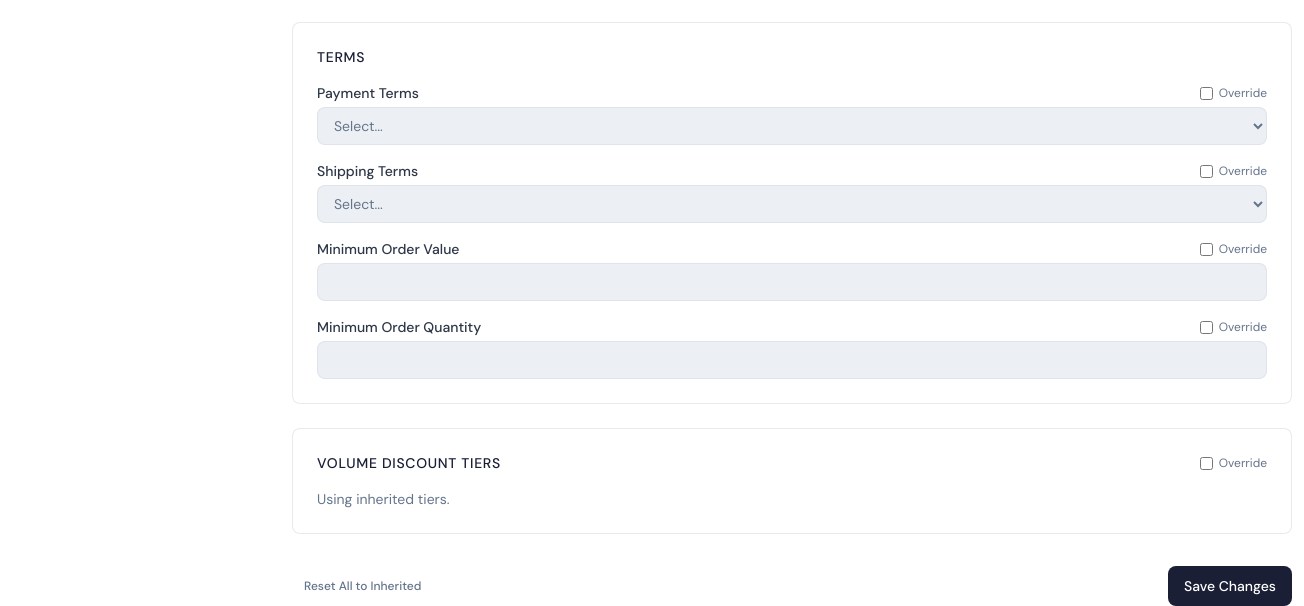
PricingPage — save and reset report the response (SEC-web-account-2-04) › Reset: a 403 shows the error and no "Reset" toast
(page scrolled)
Click the button "Reset All to Inherited". click: click(363, 586)
box: [292, 572, 433, 600]
(page scrolled)
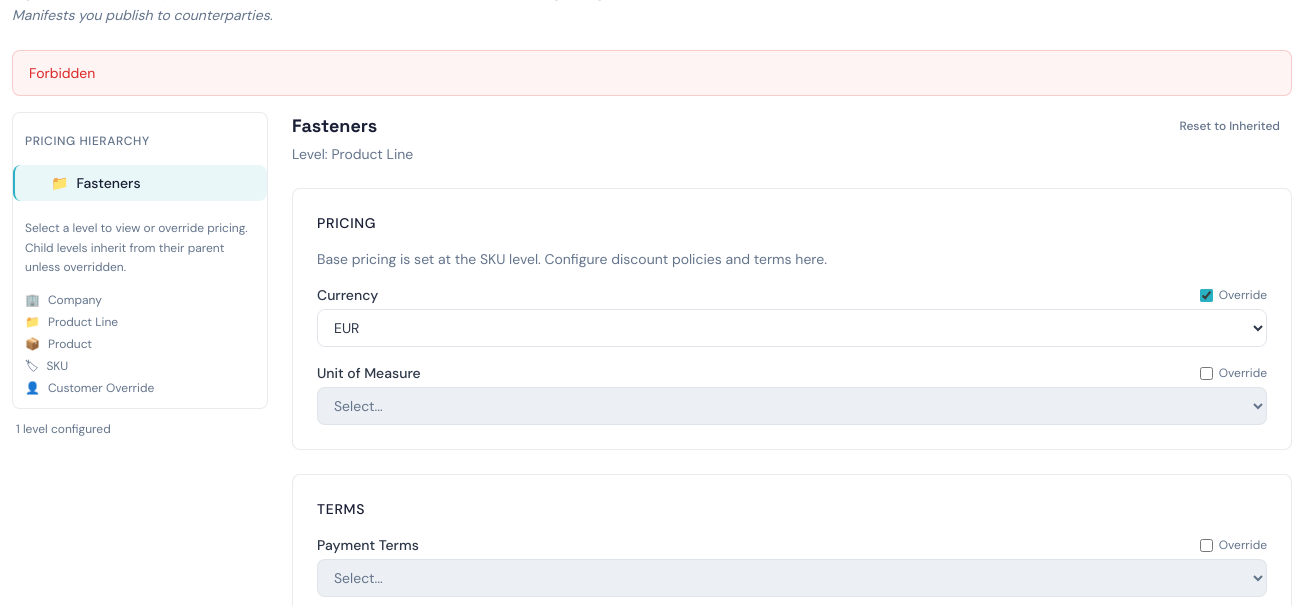
Result: the message reads "Forbidden" at [29, 64, 95, 82]
